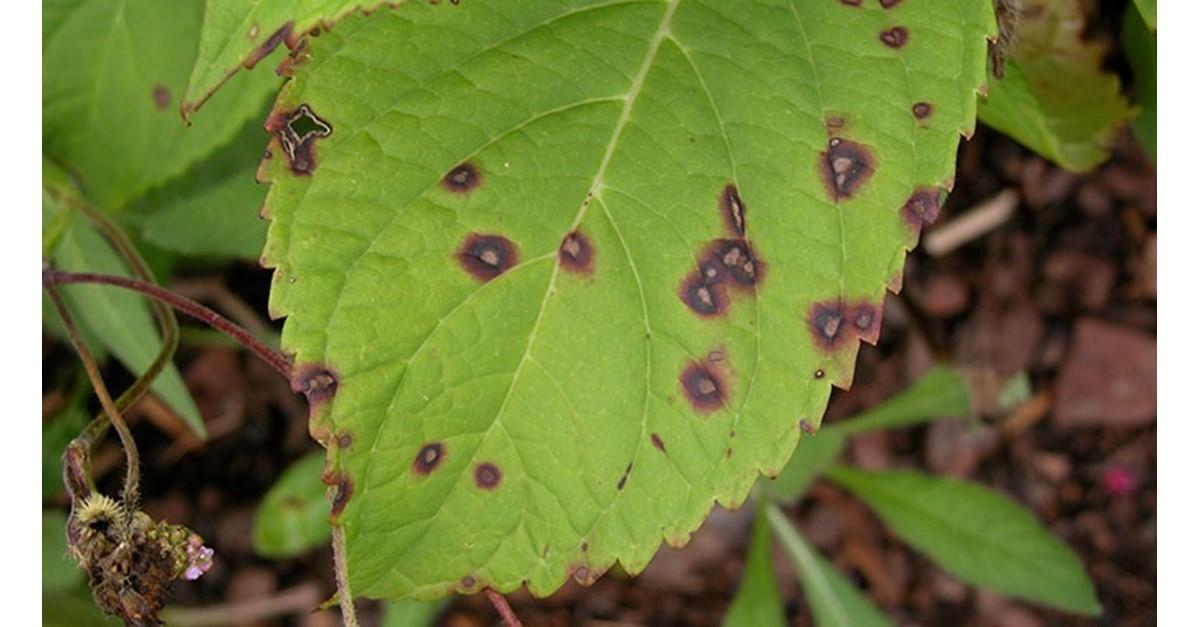black-spot: (422, 83, 779, 445)
